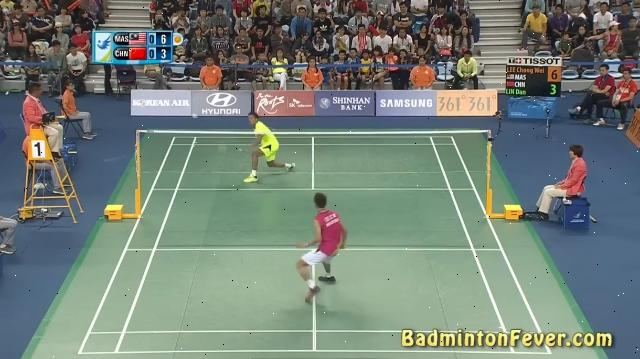Shuttlecock: (189, 113, 199, 121)
